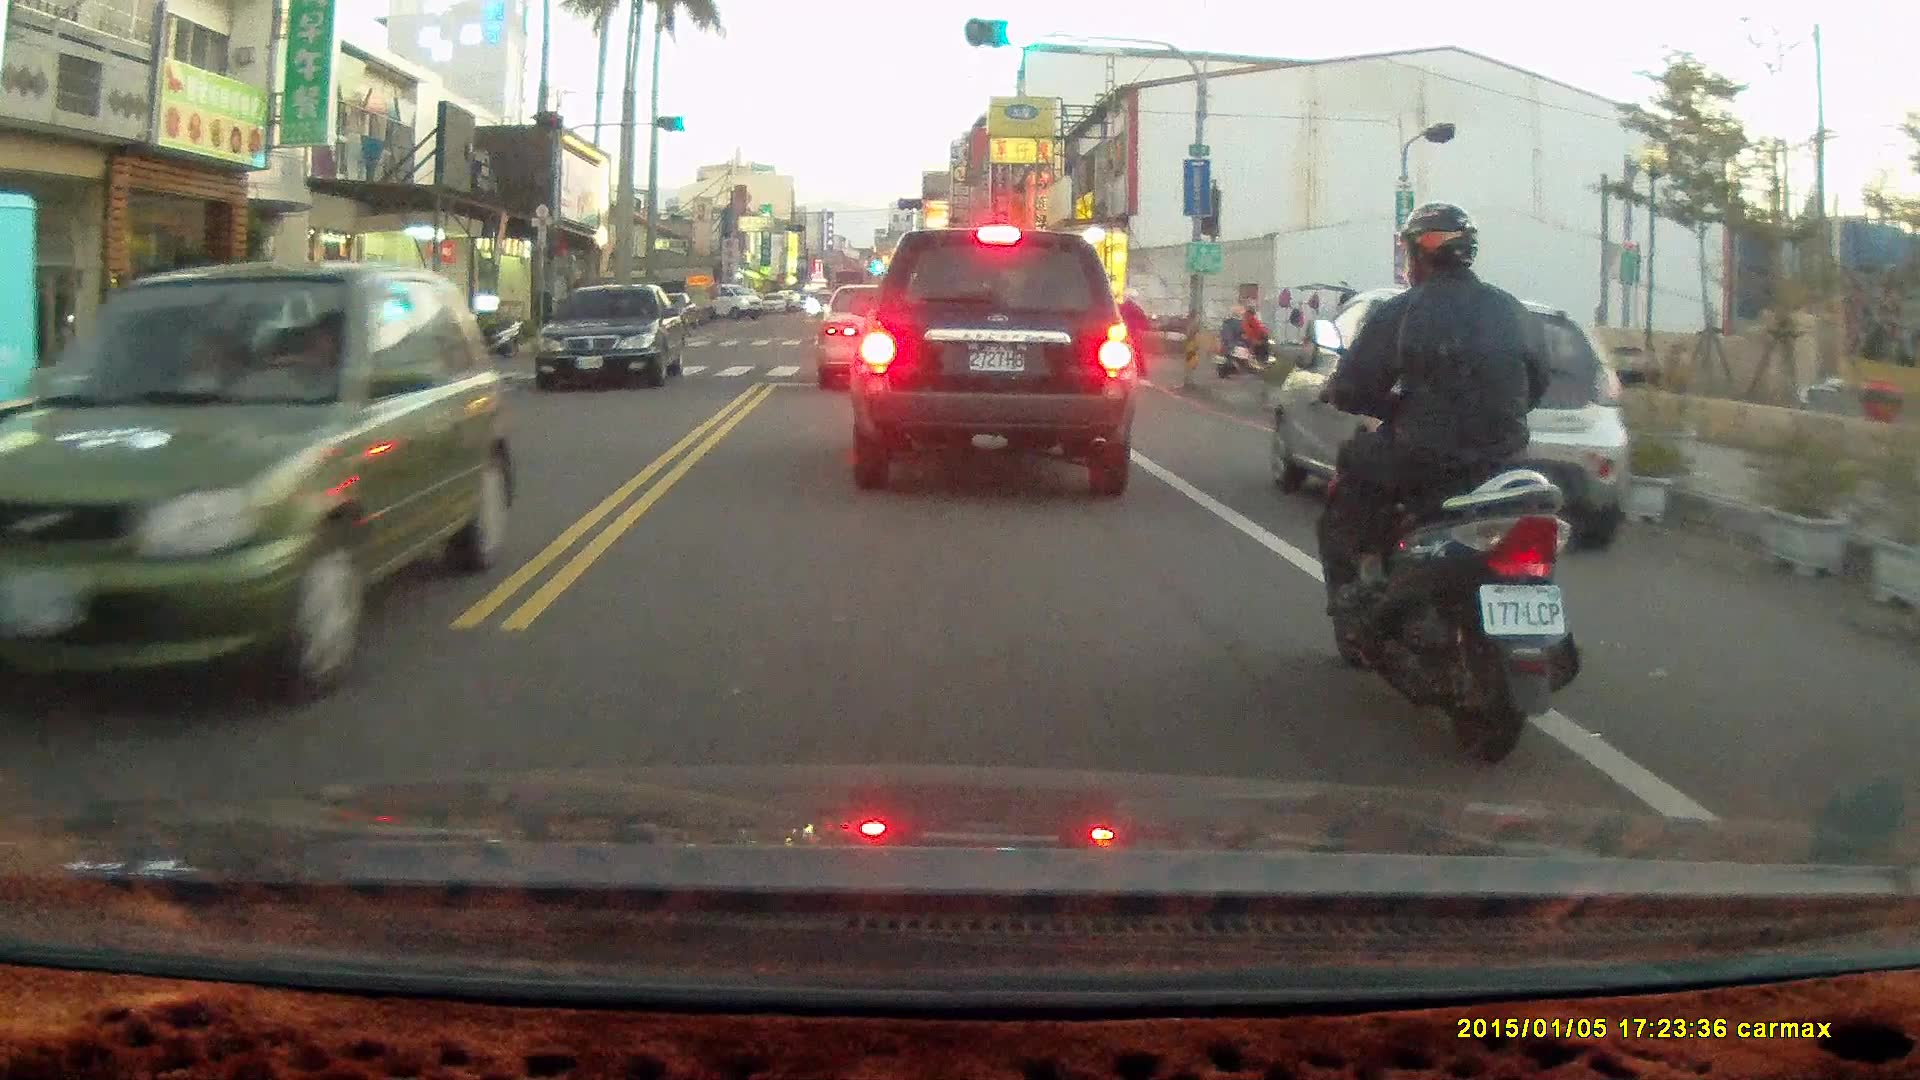rider: (1304, 200, 1581, 767), (1213, 296, 1276, 377), (1102, 284, 1152, 386)
vehicle: (1, 254, 530, 718), (1264, 289, 1635, 552), (853, 223, 1135, 501), (538, 283, 689, 394), (1, 191, 49, 496), (816, 283, 940, 397)
